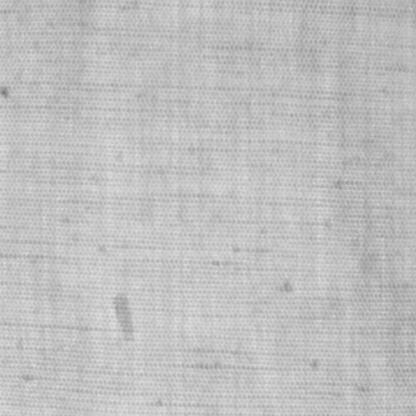oil spot: (111, 292, 137, 346)
